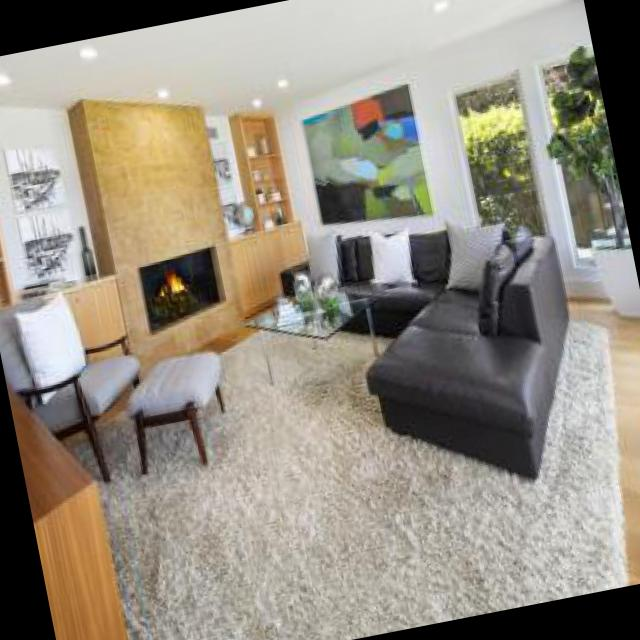fire: (157, 262, 196, 306)
